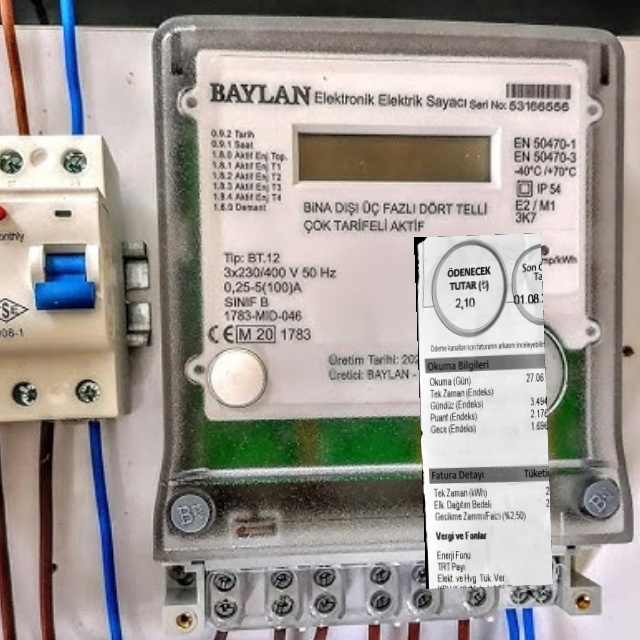electricity-bill: (413, 232, 552, 588)
